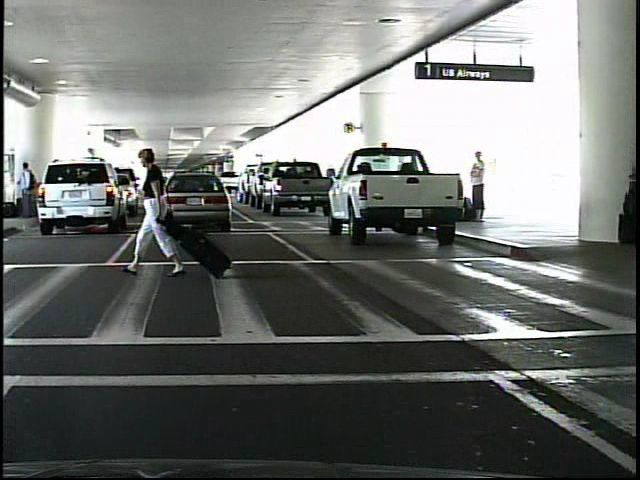person: (138, 148, 195, 281), (464, 152, 498, 224), (20, 159, 39, 221)
